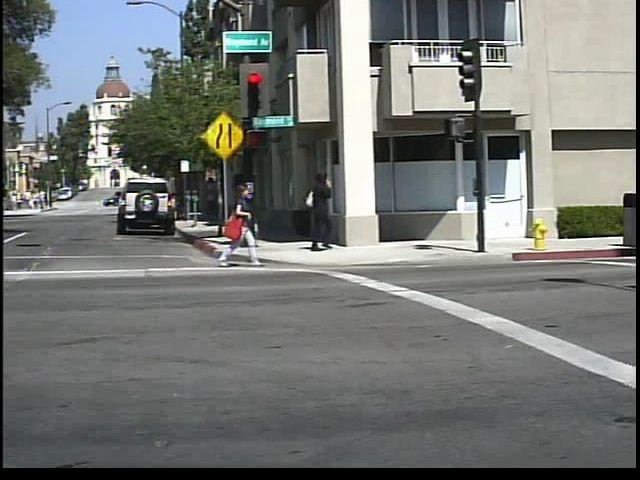person: (223, 177, 273, 269), (305, 168, 346, 254)
